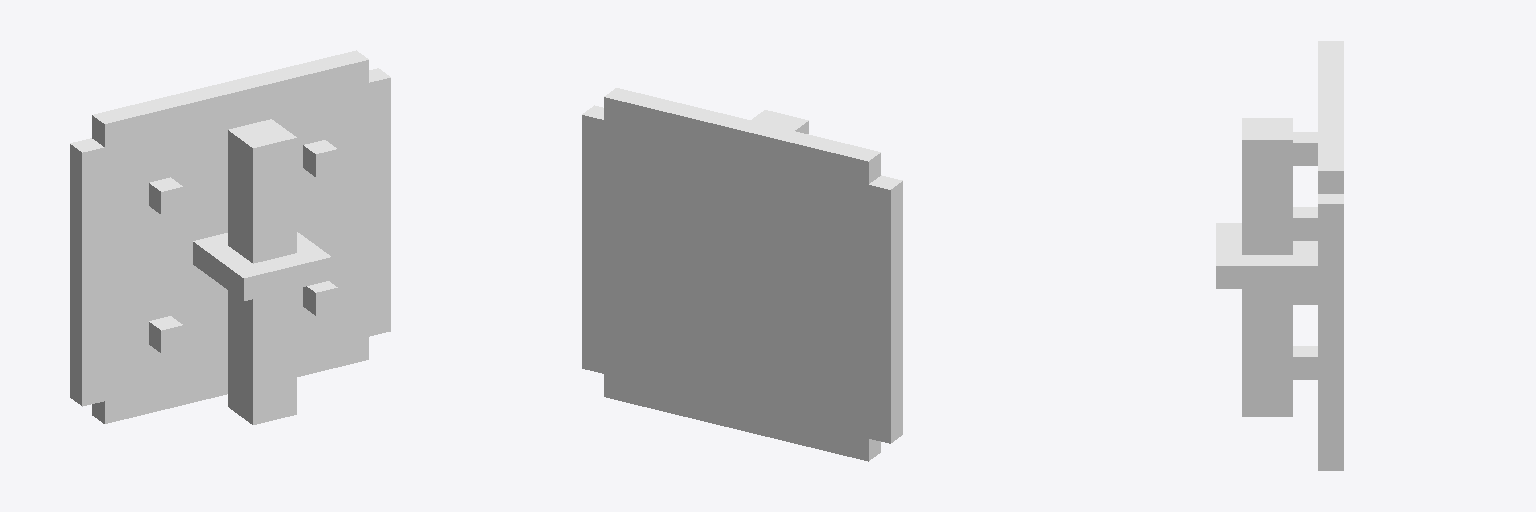
Rendered from torch_wall.obj.
The picture shows the model from 3 angles: view 1: azimuth 30°, elevation 25°; view 2: azimuth 150°, elevation 25°; view 3: azimuth 270°, elevation 25°; orthographic projection.
Parts seen in each view (by area): view 1: object 1; view 2: object 1; view 3: object 1.
Boxes of the visible parts, x1=… form: object 1: x1=70, y1=50, x2=390, y2=424; object 1: x1=582, y1=88, x2=902, y2=461; object 1: x1=1216, y1=41, x2=1343, y2=470.
Size of the model in its own units: 1.4 by 1.3 by 0.5.